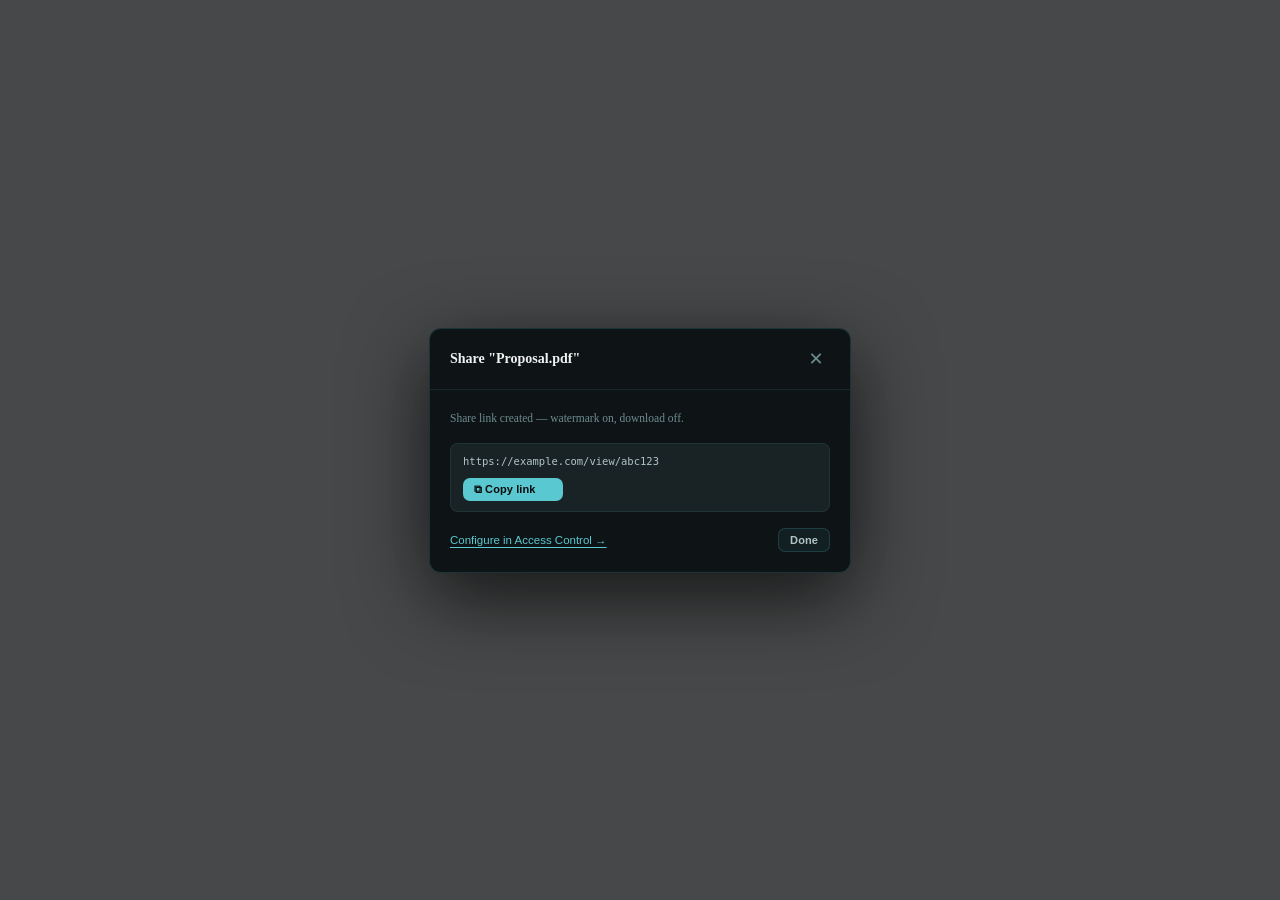
Scenario: QuickShareModal › copy button changes to "Copied" after click
Click the button "⧉ Copy link" at [513, 489], box [463, 478, 563, 500]
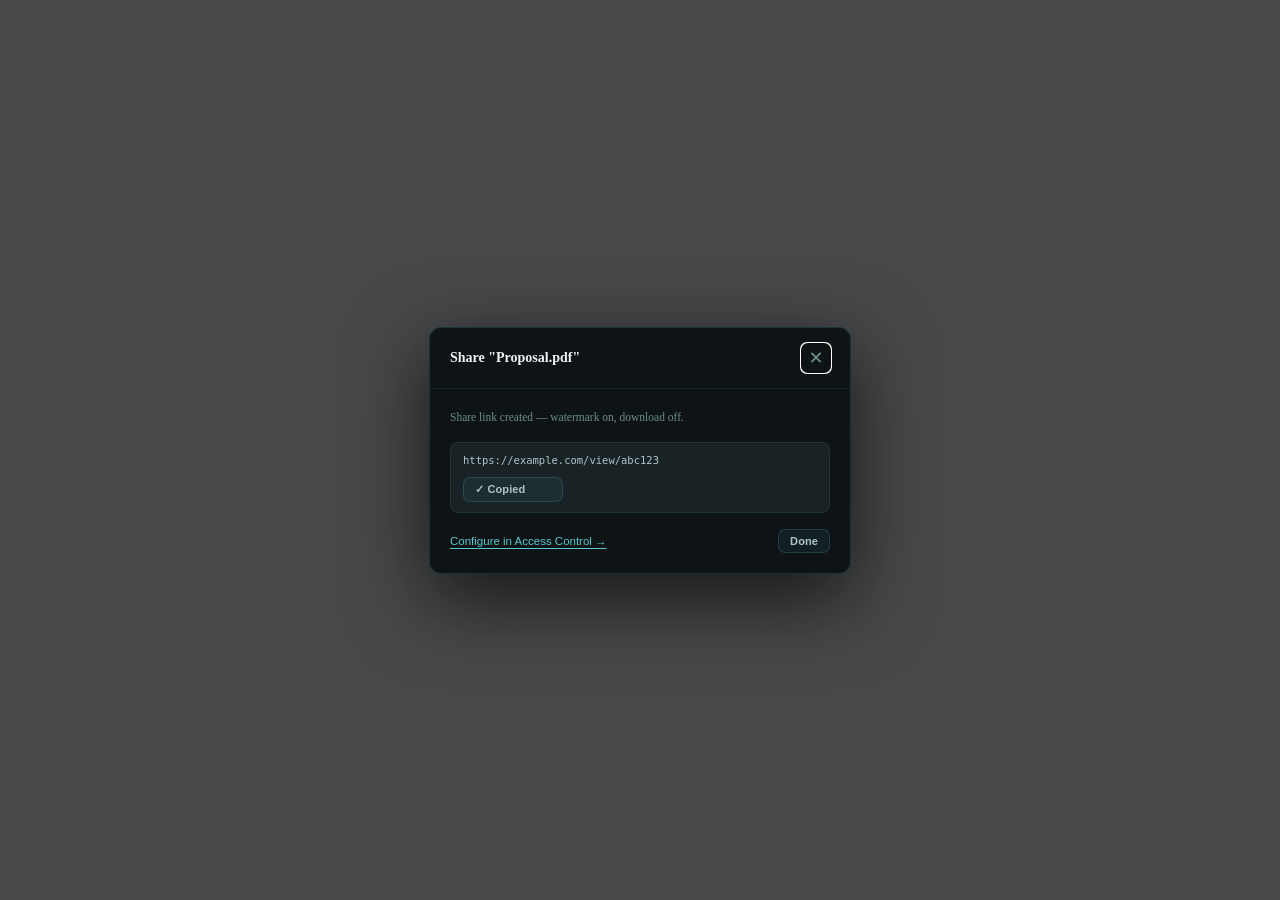
Now the button "✓ Copied" is shown, box [463, 476, 563, 502]
